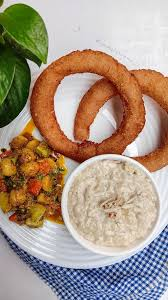sel_roti: (31, 49, 143, 151), (81, 76, 168, 170)
